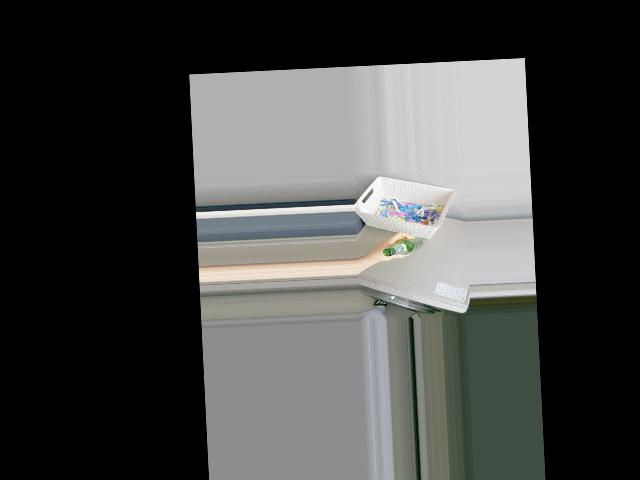beer: (381, 236, 423, 257)
